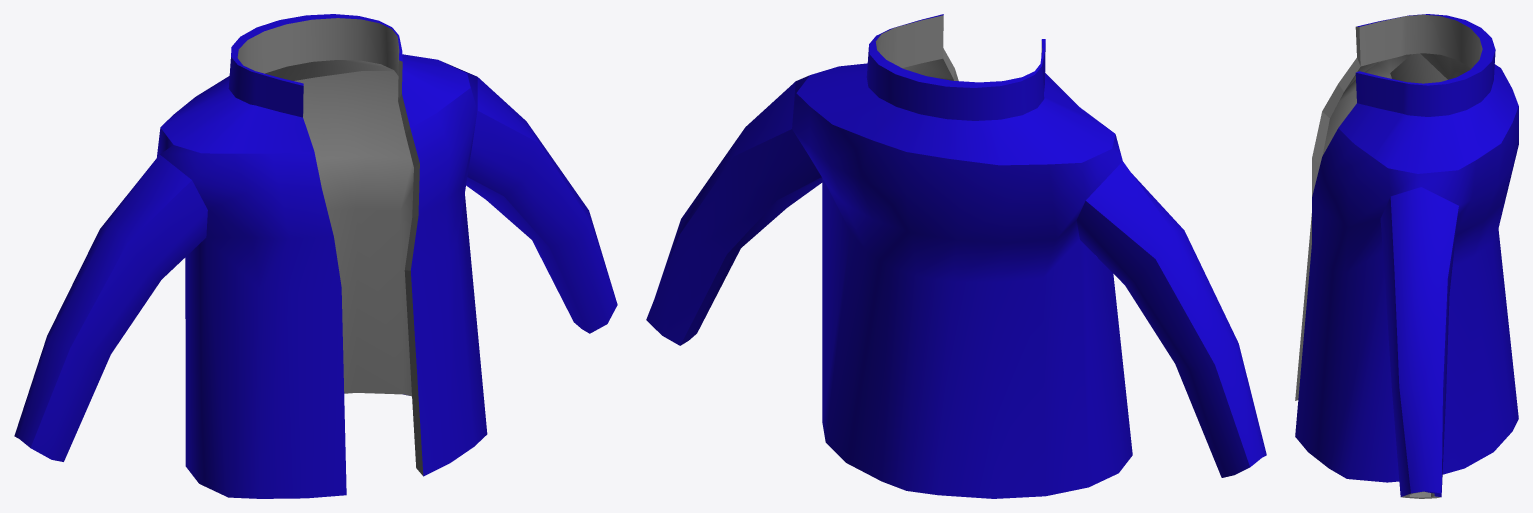
Rendered from Jacket.fbx.
3 renders of one model, left to right at view 1: azimuth 30°, elevation 25°; view 2: azimuth 150°, elevation 25°; view 3: azimuth 270°, elevation 25°, orthographic. The views are drawn at different scales.
Visible parts, largest first — view 1: pCylinder3; view 2: pCylinder3; view 3: pCylinder3.
Boxes of the visible parts, <box> form: pCylinder3: <box>14,14,617,498</box>; pCylinder3: <box>646,14,1266,498</box>; pCylinder3: <box>1295,14,1518,498</box>.
Size of the model in its own units: 9.69 by 6.07 by 3.33.
